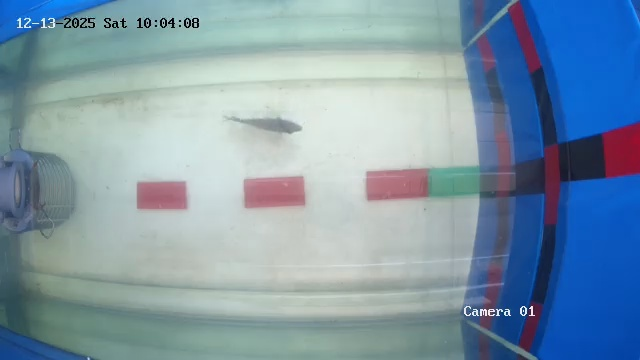fish: (235, 108, 304, 139)
